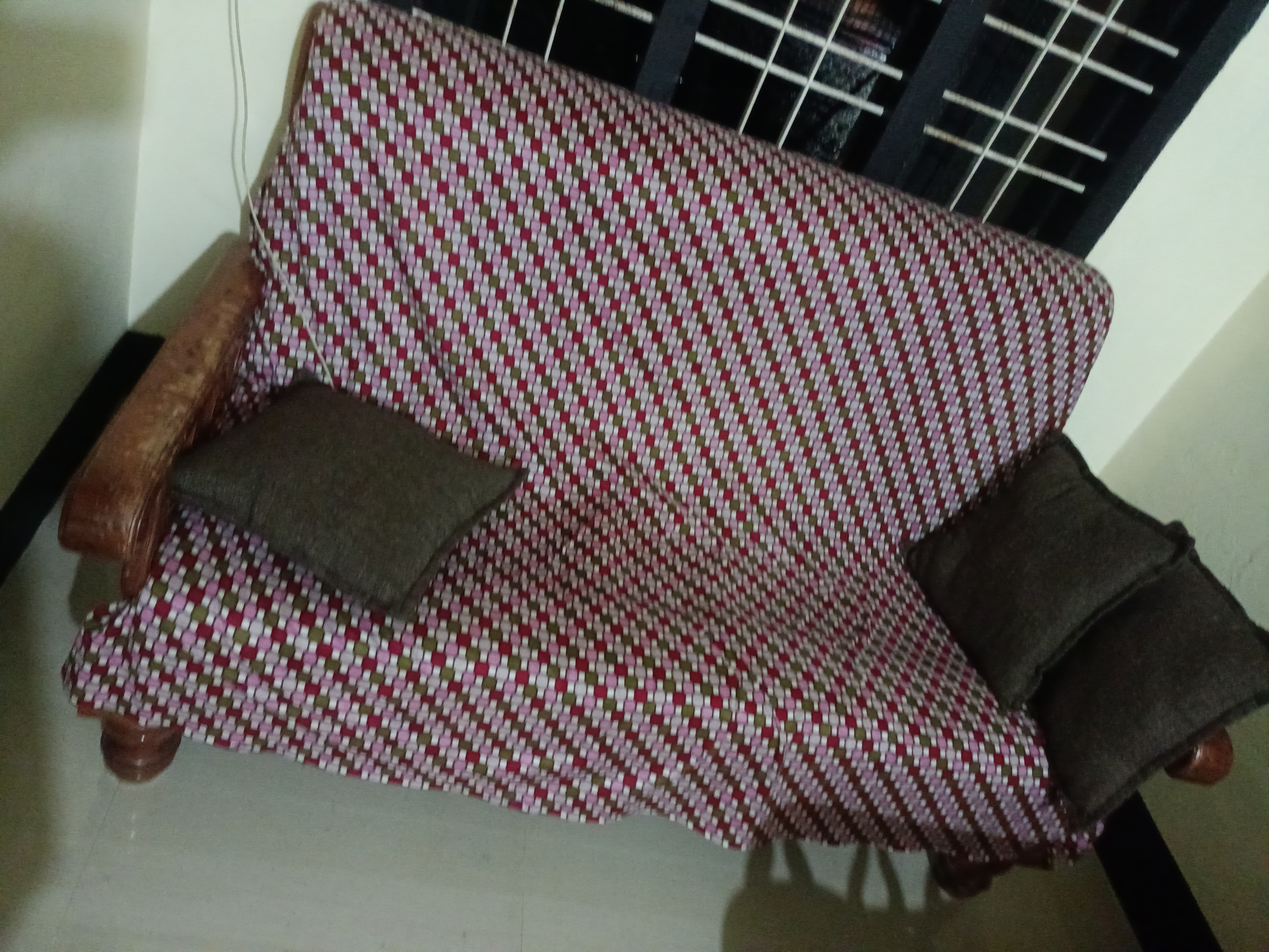sofa: (58, 0, 1269, 894)
